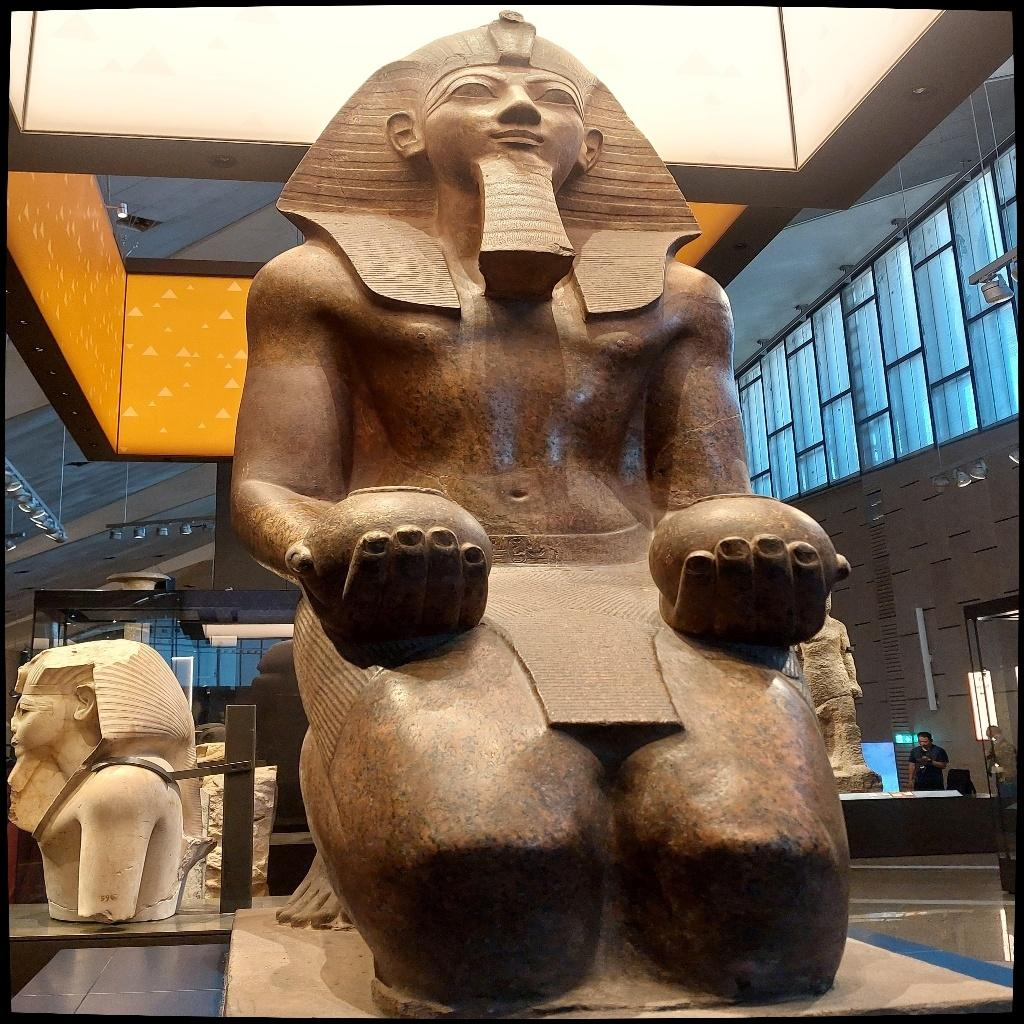kneeling statue of queen hatshibsut: (225, 10, 865, 1014)
